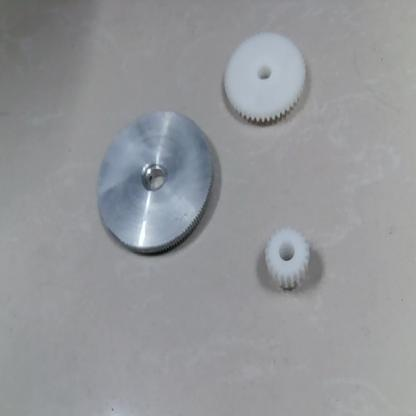FOD: (96, 104, 213, 264), (223, 30, 307, 128), (262, 230, 312, 296)
